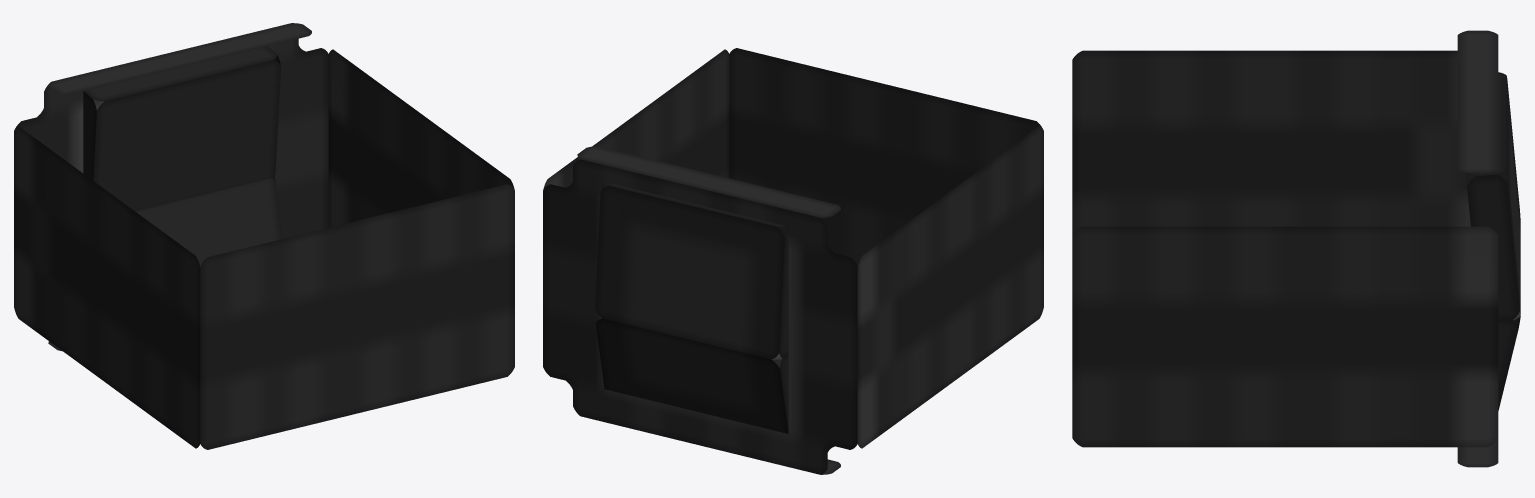
Rendered from cqb_kit_p_l.obj.
The picture shows the model from 3 angles, left to right: view 1: azimuth 30°, elevation 25°; view 2: azimuth 150°, elevation 25°; view 3: azimuth 270°, elevation 25°; orthographic projection. The views are drawn at different scales.
Parts seen in each view (by area): view 1: mesh; view 2: mesh; view 3: mesh.
Boxes of the visible parts, x1,y1,x2,y2 form: mesh: [14, 23, 514, 449]; mesh: [543, 48, 1043, 474]; mesh: [1072, 30, 1520, 467].
Size of the model in its own units: 0.3203 by 0.25 by 0.3453.
